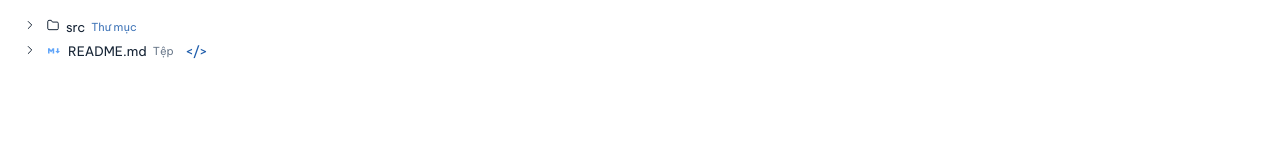
it: TreeView › cây mở thư mục khi bấm và gọi neighbors đúng tham số
Click the button named "Mở src".
click(30, 26)  # box 20,18 -> 40,35
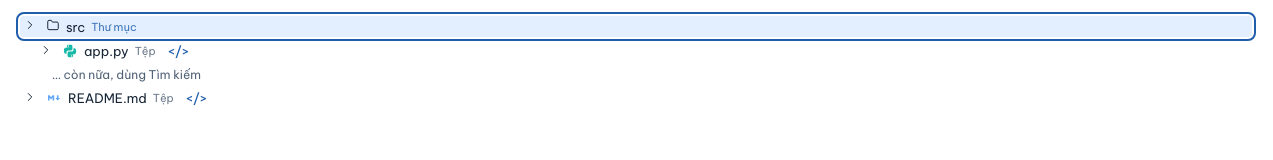
Expected: the list item "app.py" is shown, 36,39 -> 195,63
Expected: the text "Tệp" next to "app.py" is shown, 135,44 -> 156,58
Expected: the text "… còn nữa, dùng Tìm kiếm" is shown, 52,67 -> 201,82
